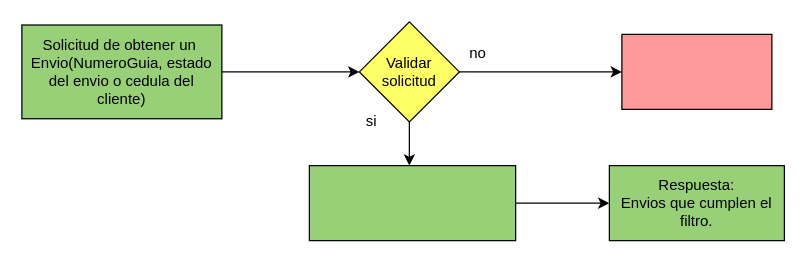
The diagram is 806 pixels wide and 263 high, and some of its shapes have lost their labels. Here are the shapes that lost their labels. From the top down, the centre of each, then its label:
At point (696, 71): "Error 404".
At point (412, 202): "Buscar Envio".
